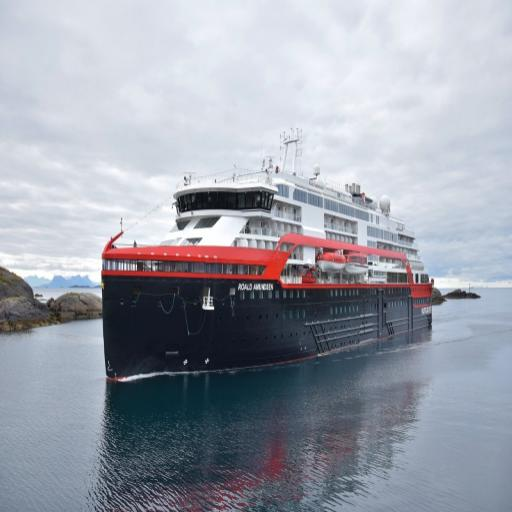cruises: (99, 110, 437, 378)
